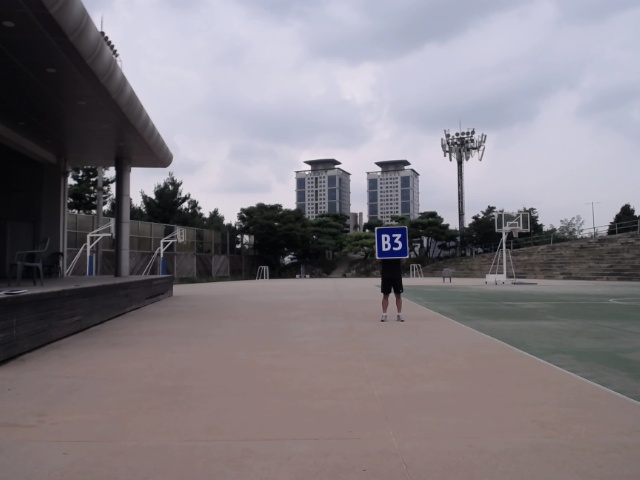delivery_b3: (374, 226, 410, 260)
